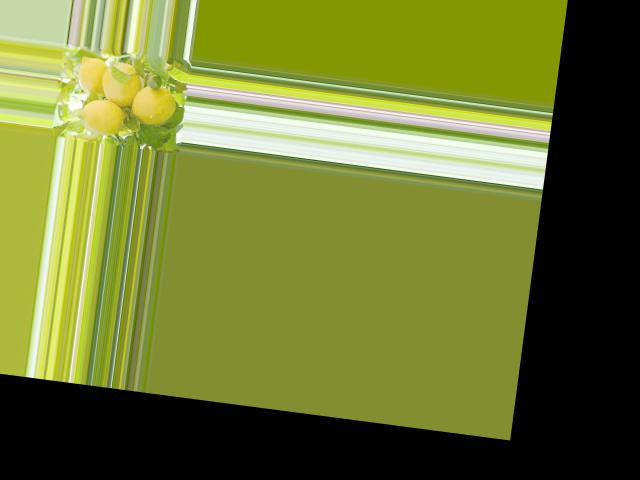lemon: (129, 78, 180, 129)
